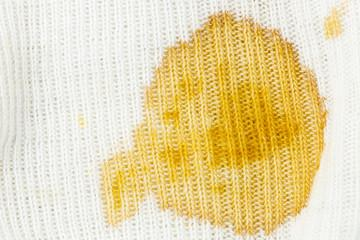gun: (130, 17, 327, 229), (96, 148, 139, 222), (324, 7, 343, 37), (74, 113, 87, 129)
